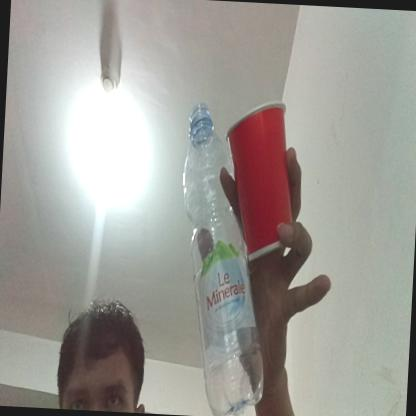objects: (220, 92, 300, 266)
plastic_bottles: (171, 99, 276, 416)
